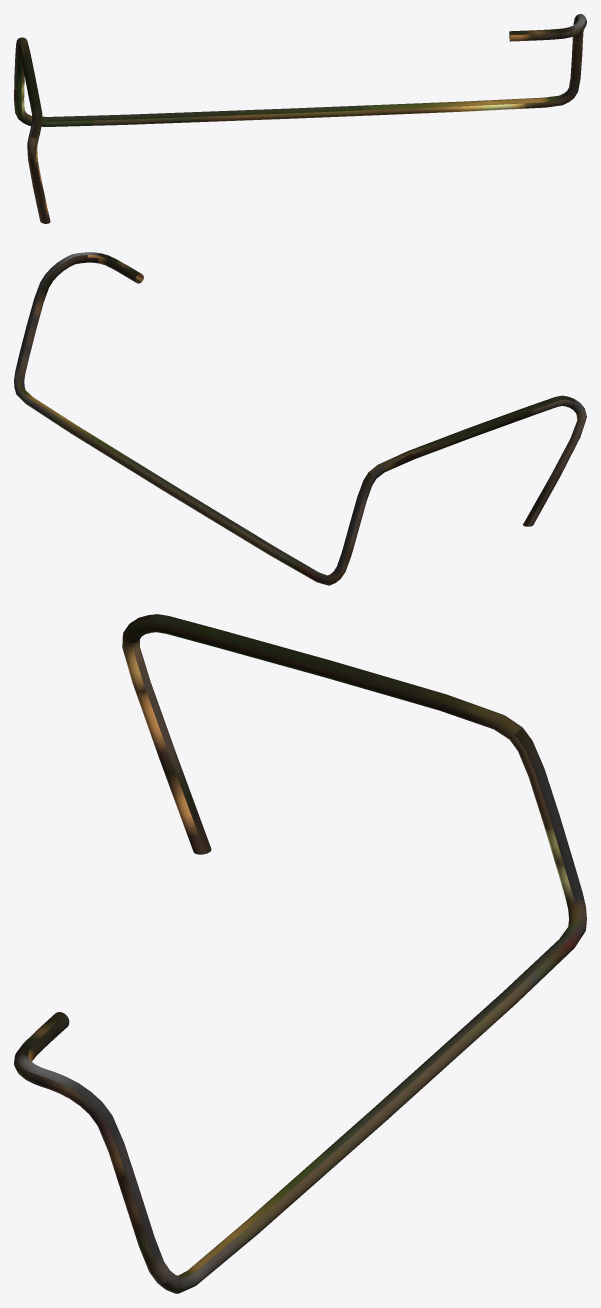
Rendered from gates004.fbx.
The picture shows the model from 3 angles, top to bottom: view 1: azimuth 30°, elevation 25°; view 2: azimuth 150°, elevation 25°; view 3: azimuth 270°, elevation 25°; orthographic projection. The views are drawn at different scales.
Visible parts, largest first — view 1: gates004; view 2: gates004; view 3: gates004.
Part boxes in pixels (x1,y1,x2,y2): gates004: [14, 14, 586, 223]; gates004: [14, 252, 586, 585]; gates004: [14, 614, 586, 1293].
Size of the model in its own units: 6.81 by 1.53 by 3.44.
Materials: 1 (1 with a texture image).
